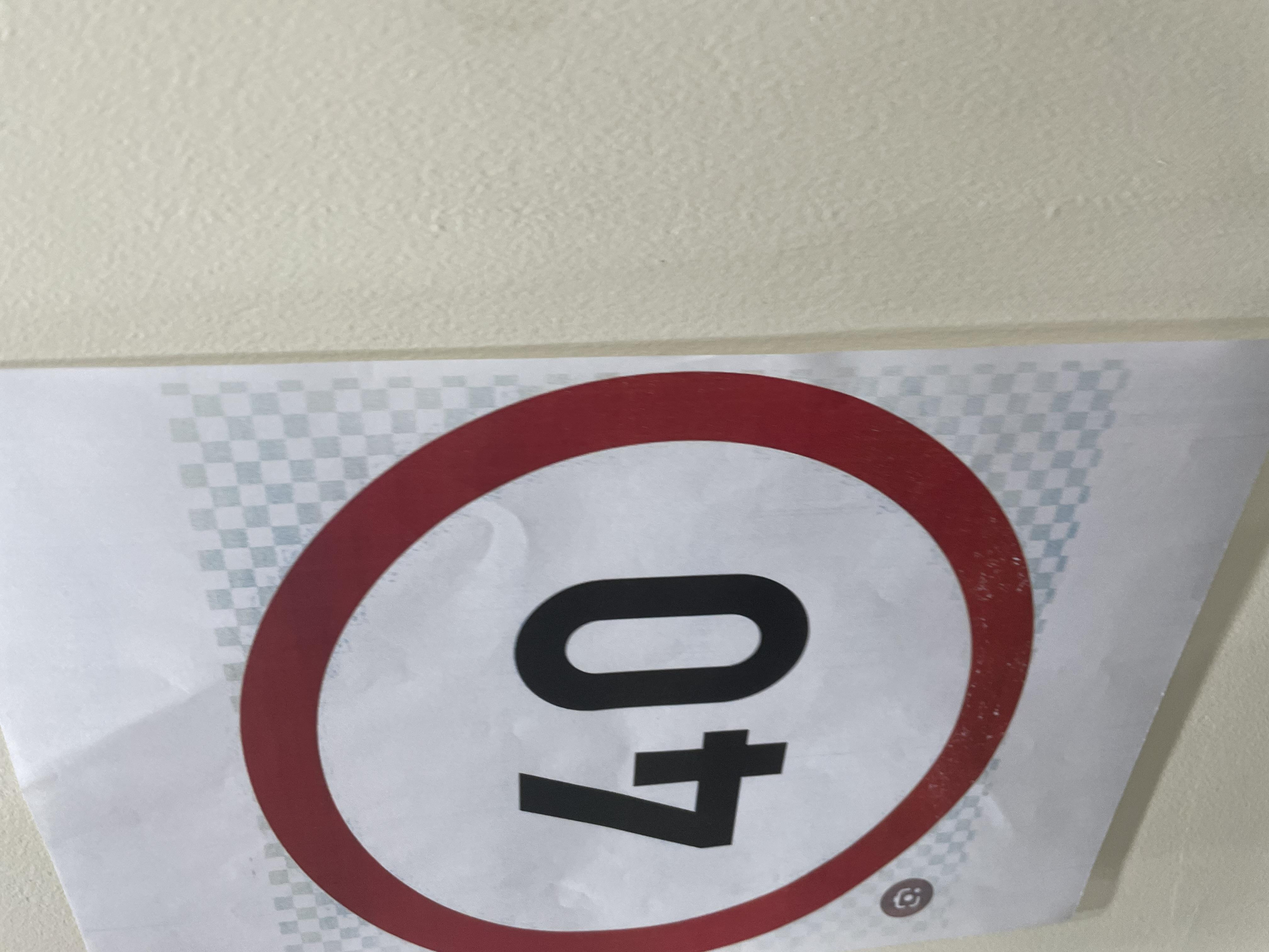40-Speed: (18, 180, 788, 779)
